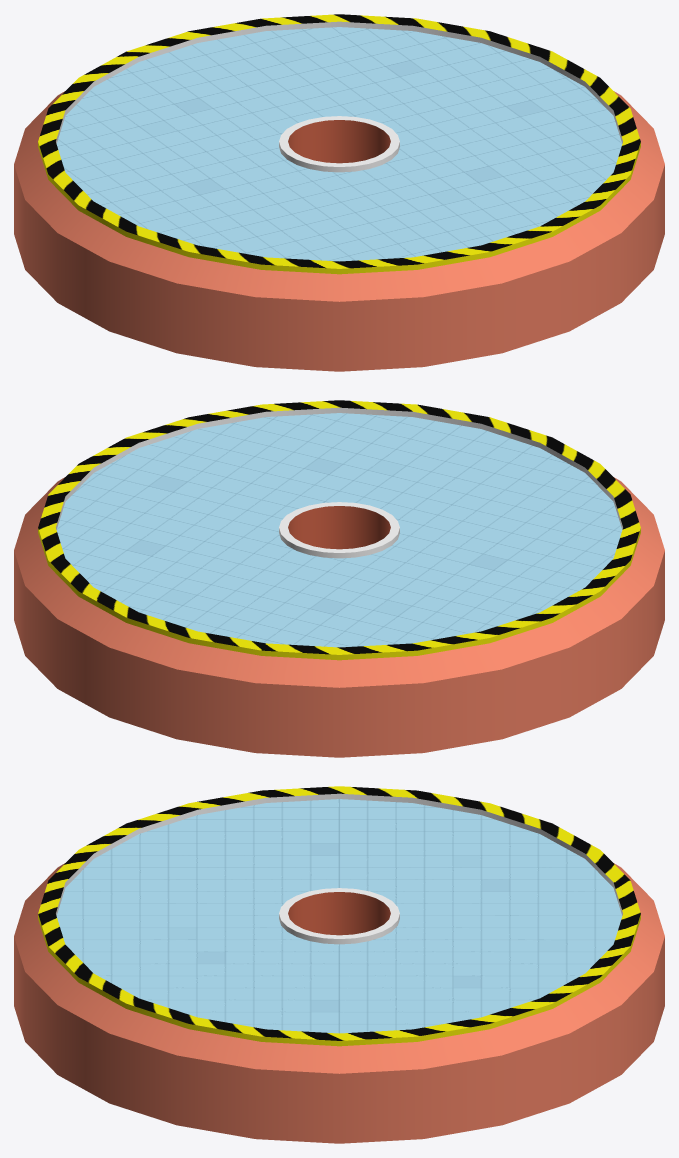
The picture shows the model from 3 angles, top to bottom: view 1: azimuth 30°, elevation 25°; view 2: azimuth 150°, elevation 25°; view 3: azimuth 270°, elevation 25°; orthographic projection.
Visible parts, largest first — view 1: floor_circle_1_hole.002; view 2: floor_circle_1_hole.002; view 3: floor_circle_1_hole.002.
Part boxes in pixels (box(x1,y1,x2,y2)): floor_circle_1_hole.002: box(14, 14, 664, 371); floor_circle_1_hole.002: box(14, 400, 664, 757); floor_circle_1_hole.002: box(14, 786, 664, 1143).
Bounding box in the file's own units: 2553 × 401 × 2553.
1 material, 1 textured.
